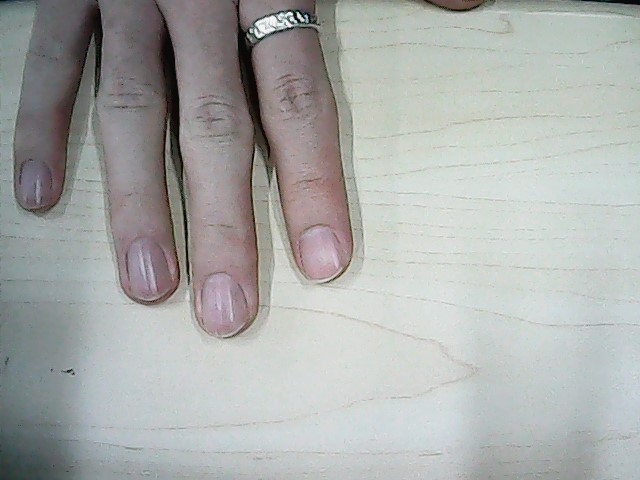nail: (195, 272, 252, 334), (295, 221, 347, 284), (124, 236, 171, 302), (15, 159, 53, 211)
